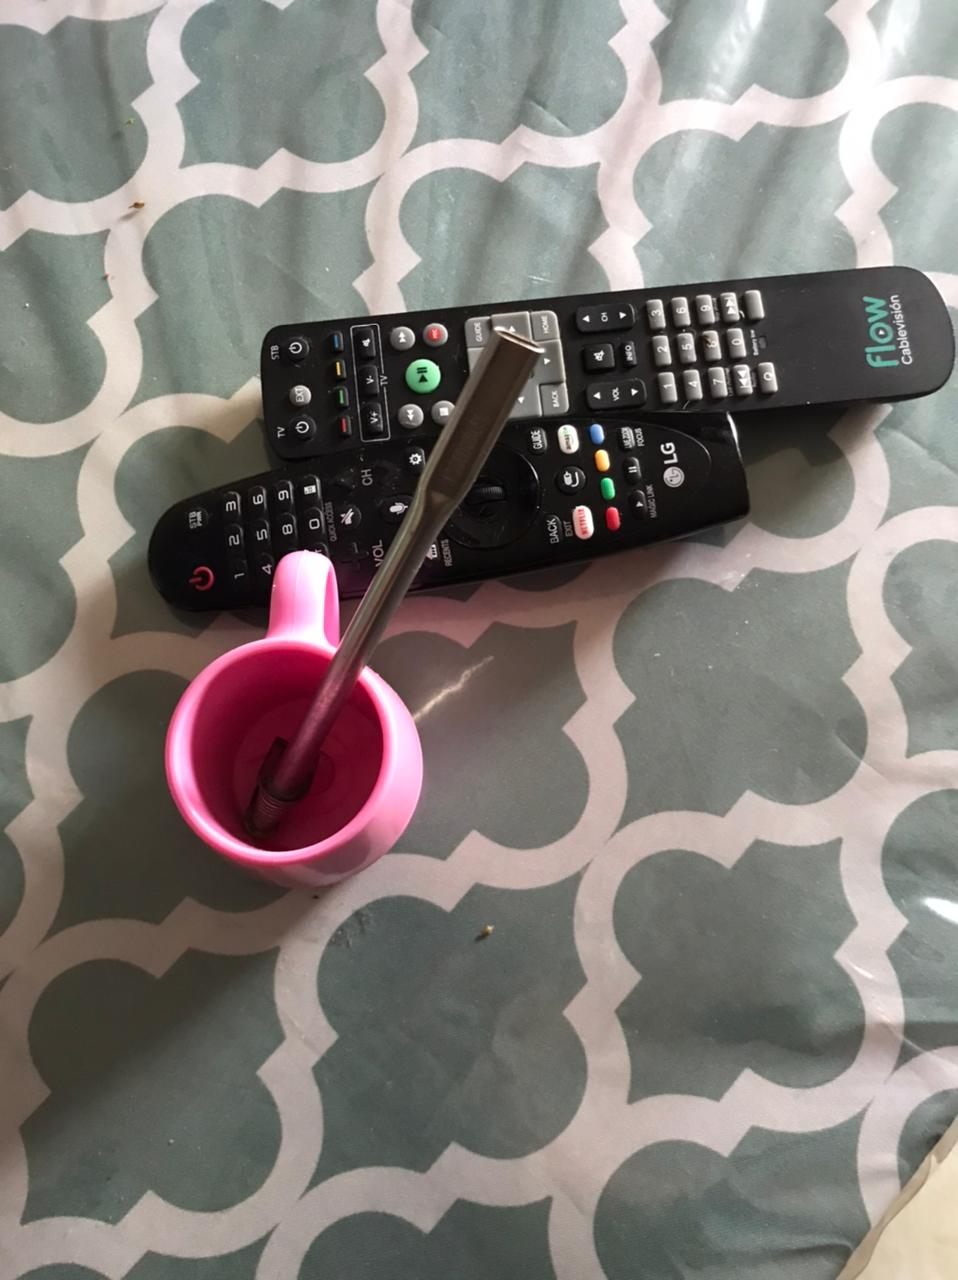mate: (165, 335, 543, 897)
